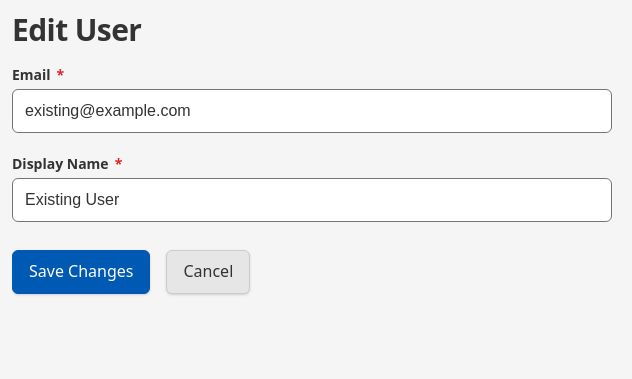
UserEditPage › displays generic error message on network error during update
The width and height of the screenshot is (632, 379).
Note: Update the form
Replace the text in the field labelled "Display Name *" with "New Name" at (312, 200), box [12, 178, 612, 222]
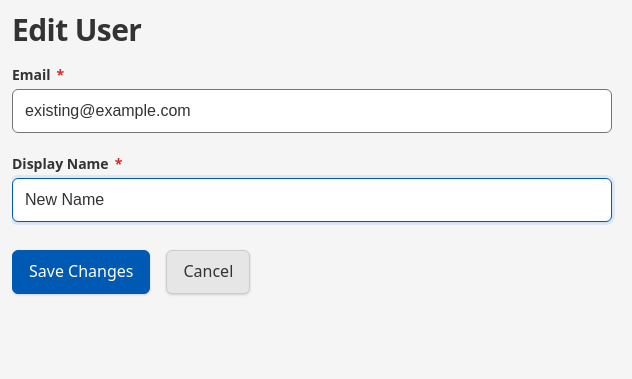
Note: Submit the form
Click the button "Save Changes" at (81, 272), box [12, 250, 150, 294]
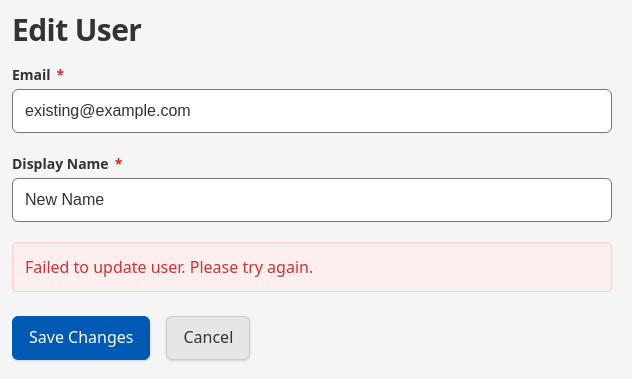
Expected: the text "Failed to update user. Please try again." is shown, [12, 242, 612, 292]
